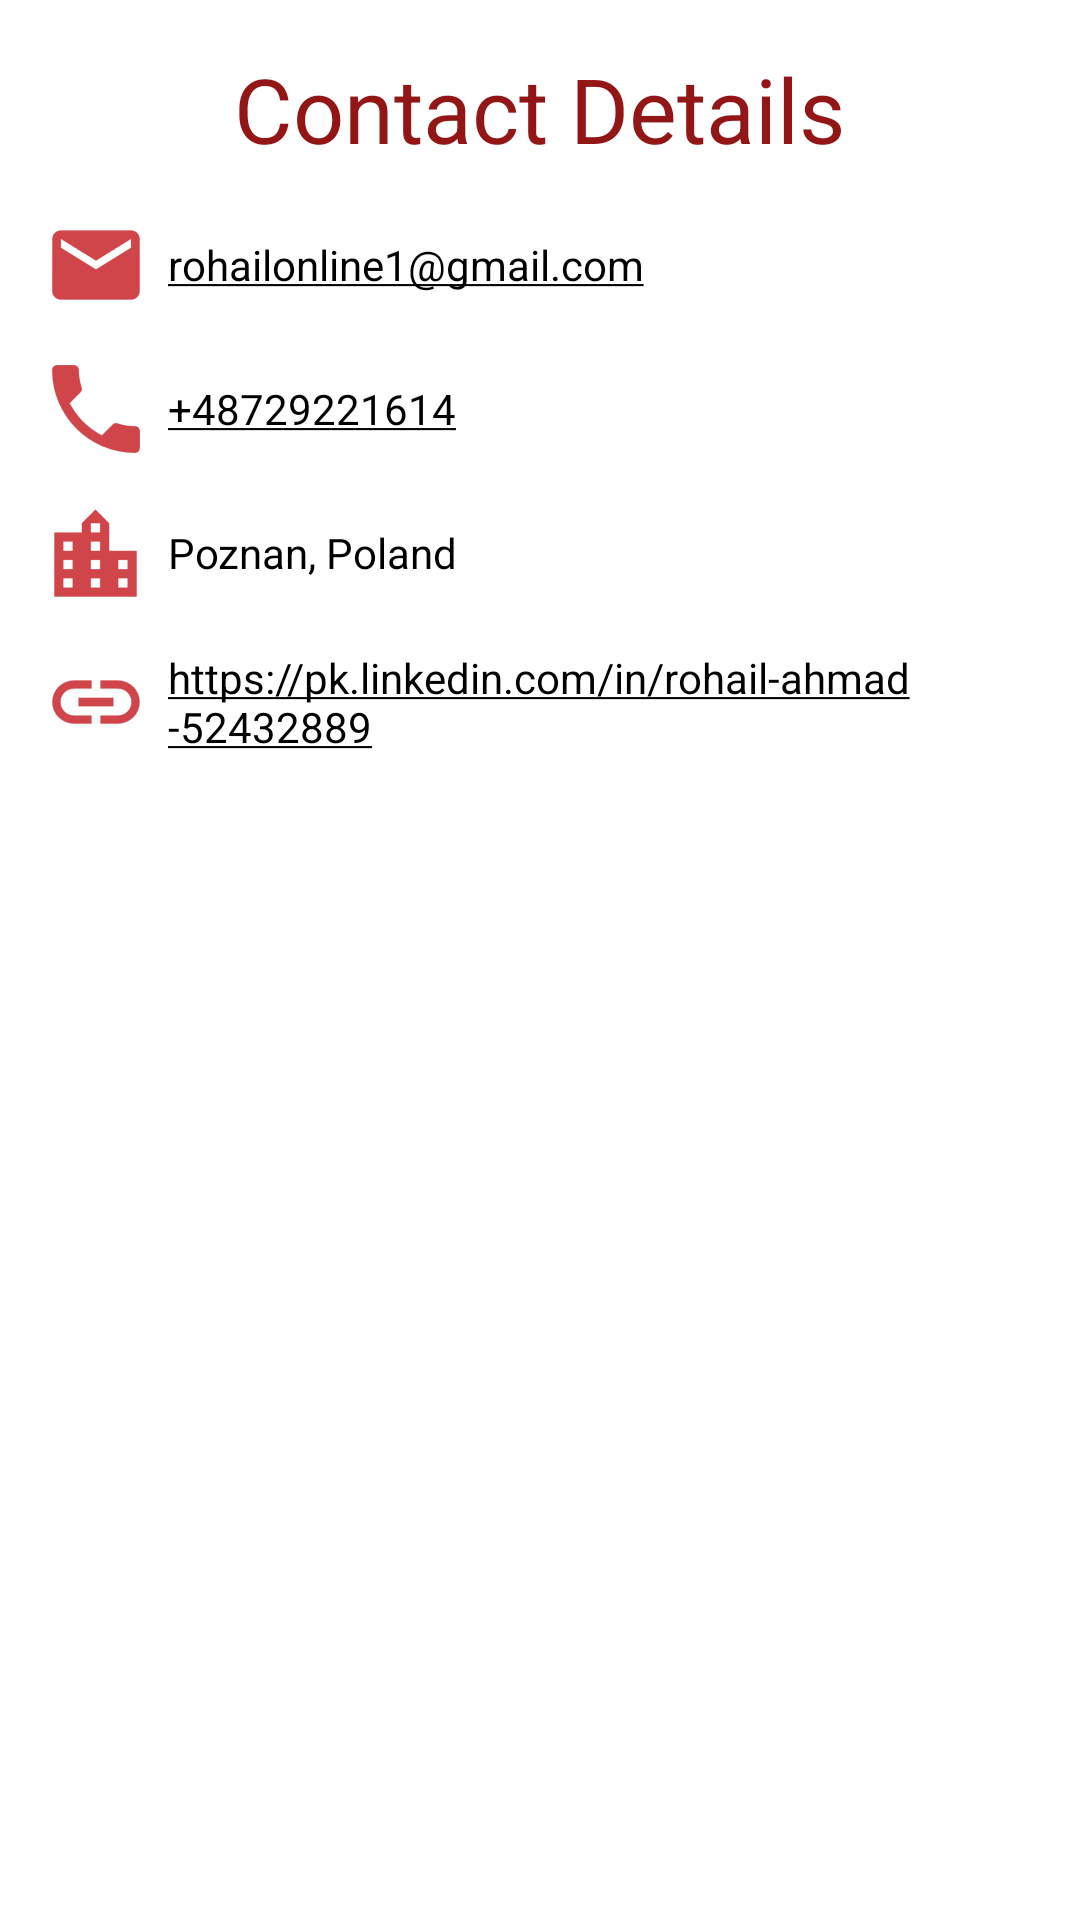

Icon click points for this 1080*1920 phone screenshot, format (x=x, y=y):
email: (x=96, y=265)
phone: (x=96, y=409)
